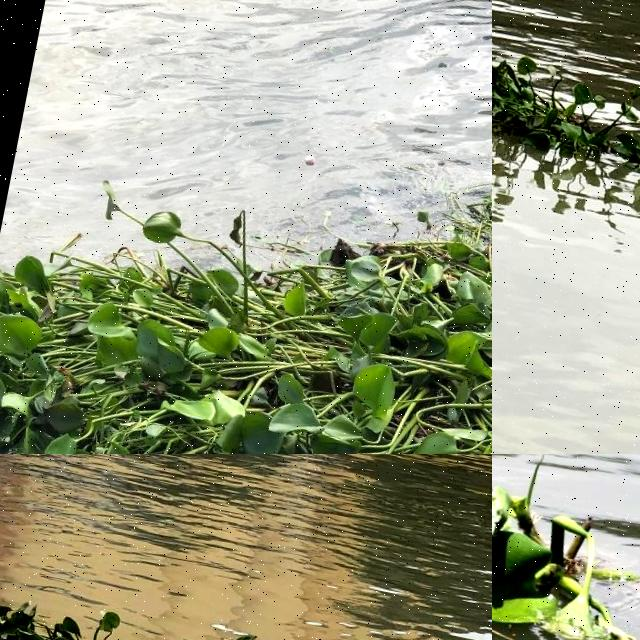water-hyacinth: (1, 191, 491, 455), (493, 39, 640, 235), (493, 454, 636, 640), (1, 604, 122, 640)
